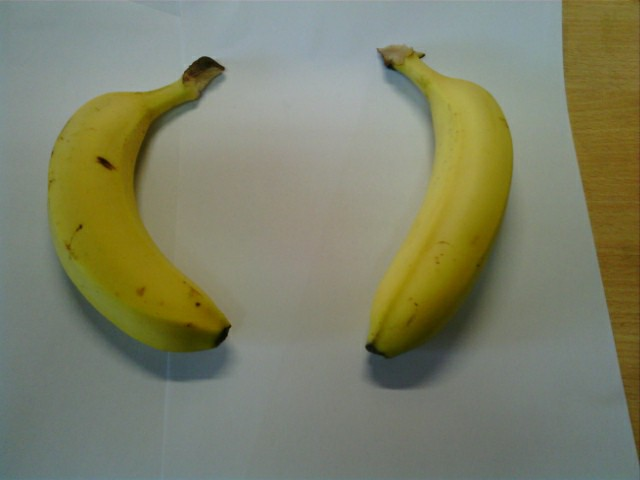fresh_banana: (366, 43, 513, 364)
normal_banana: (46, 58, 235, 348)
